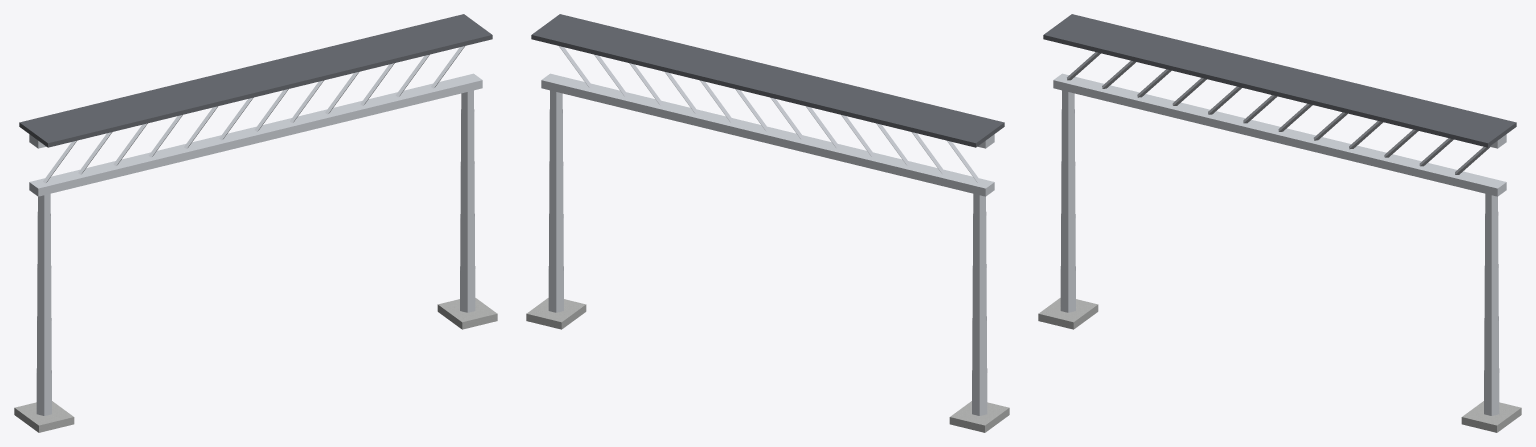
Rendered from velodrome-and-track-cycling-roof-truss-section-408b69e0__38006.glb.
The picture shows the model from 3 angles, left to right: view 1: azimuth 30°, elevation 25°; view 2: azimuth 150°, elevation 25°; view 3: azimuth 330°, elevation 25°; orthographic projection.
Visible parts, largest first — view 1: roof-truss-section-steel, roof-truss-section-charcoal, roof-truss-section-apron; view 2: roof-truss-section-steel, roof-truss-section-charcoal, roof-truss-section-apron; view 3: roof-truss-section-steel, roof-truss-section-charcoal, roof-truss-section-apron.
Boxes of the visible parts, box(x1,y1,x2,y2) form: roof-truss-section-steel: box(29, 46, 482, 415); roof-truss-section-charcoal: box(19, 14, 492, 147); roof-truss-section-apron: box(14, 298, 497, 432); roof-truss-section-steel: box(541, 46, 994, 415); roof-truss-section-charcoal: box(531, 14, 1004, 147); roof-truss-section-apron: box(526, 298, 1009, 432); roof-truss-section-steel: box(1053, 52, 1506, 415); roof-truss-section-charcoal: box(1043, 14, 1516, 147); roof-truss-section-apron: box(1038, 298, 1521, 432).
Bounding box in the file's own units: 13 × 7.84 × 1.4.
3 materials, 1 textured.
